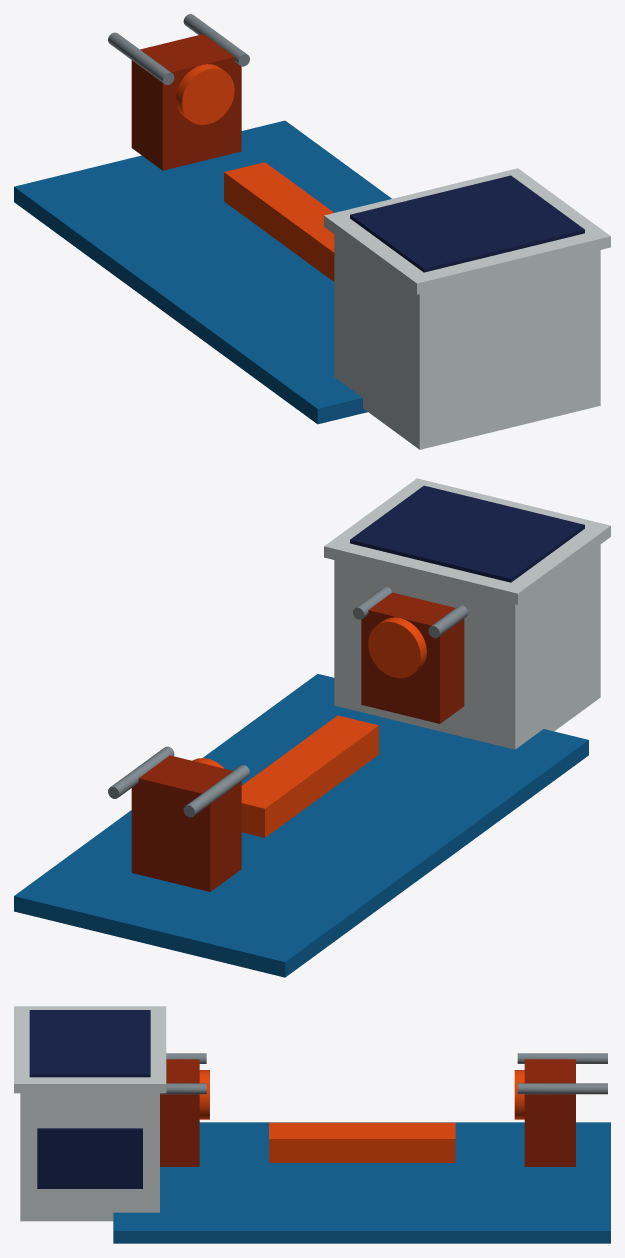
Rendered from bearing_demount_frontage.dae.
3 views of the same model, one above another, from view 1: azimuth 30°, elevation 25°; view 2: azimuth 150°, elevation 25°; view 3: azimuth 270°, elevation 25° (orthographic). The views are drawn at different scales.
Parts seen in each view (by area): view 1: bearing_demount_frontage; view 2: bearing_demount_frontage; view 3: bearing_demount_frontage.
Part boxes in pixels (left/top/right/bottom): bearing_demount_frontage: left=14, top=14, right=610, bottom=449; bearing_demount_frontage: left=14, top=478, right=610, bottom=977; bearing_demount_frontage: left=14, top=1006, right=610, bottom=1243.
Bounding box in the file's own units: 1.65 × 3.84 × 1.04.
